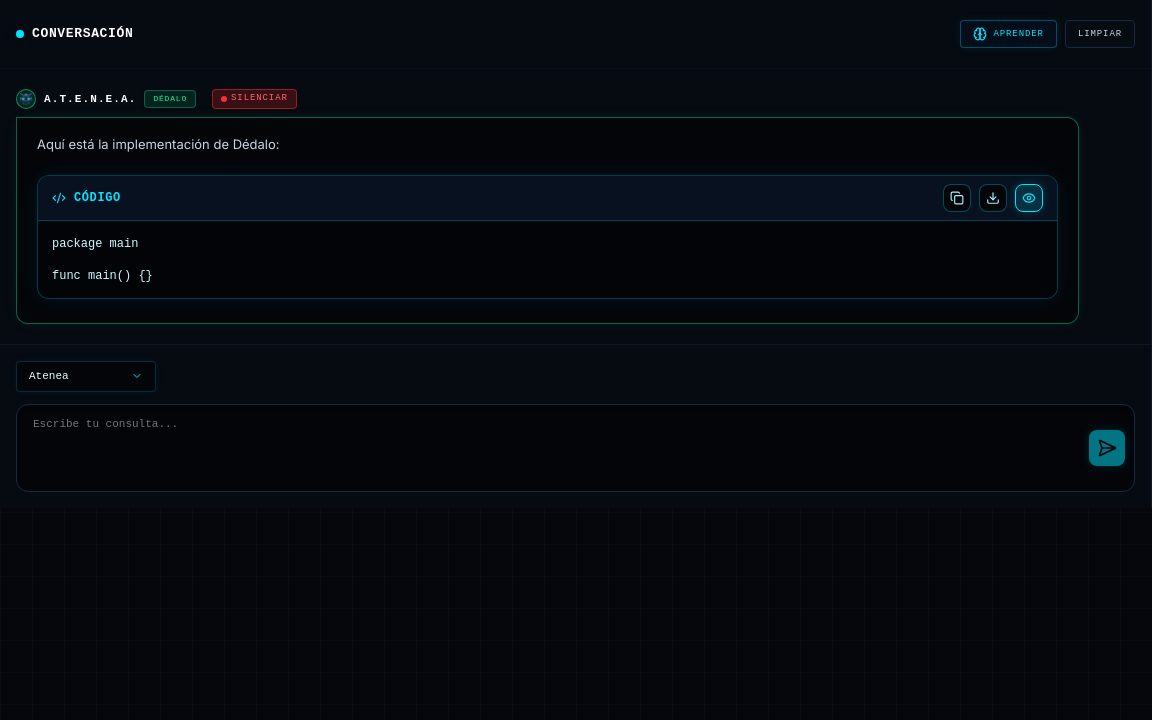
Test: ChatPanel.vue › renders code card and opens CodeModal when clicking Ver button
This screenshot has width=1152, height=720.
Expected: the element with test id "chat-code-card" is shown, [37, 175, 1058, 299]
Click the button with test id "chat-code-view-btn" at (1029, 198), box [1015, 184, 1043, 212]
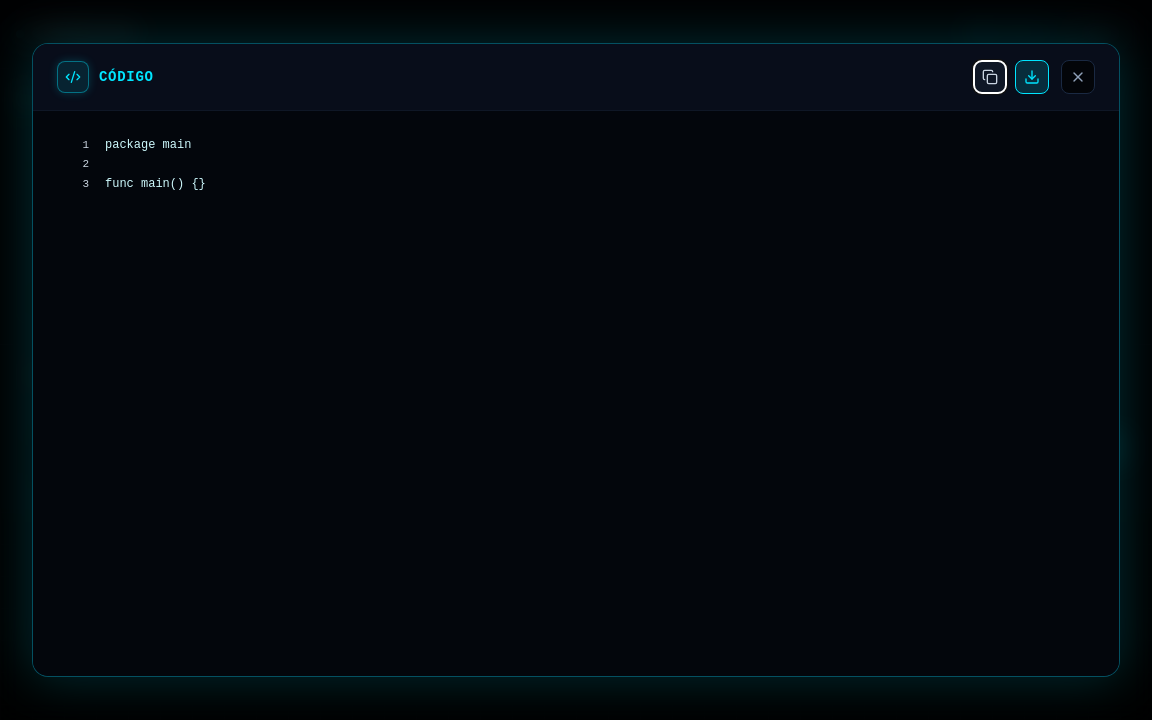
Now the dialog with test id "code-modal-backdrop" is shown
